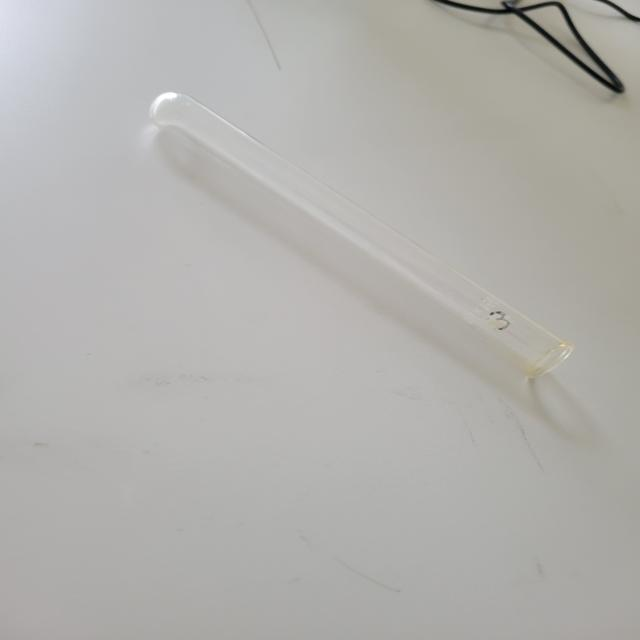Test_Tube: (123, 67, 585, 404)
